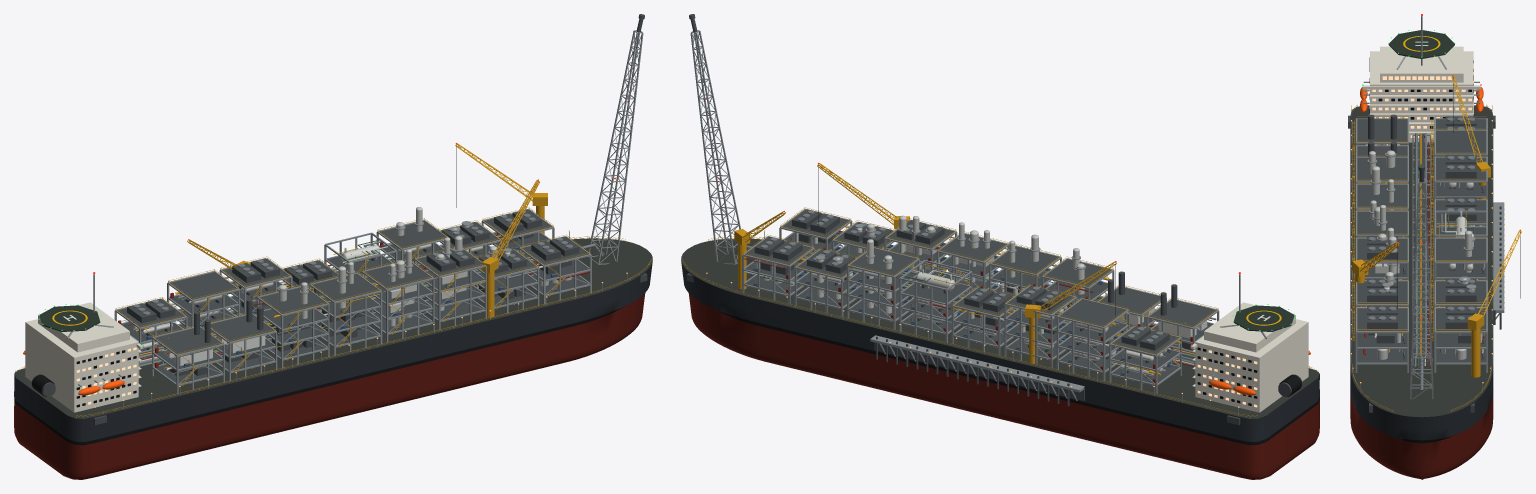
The model's file is fpso.glb.
The picture shows the model from 3 angles, left to right: view 1: azimuth 30°, elevation 25°; view 2: azimuth 150°, elevation 25°; view 3: azimuth 270°, elevation 25°; orthographic projection. The views are drawn at different scales.
Parts seen in each view (by area): view 1: fpso_casco, fpso_topside_estrutura_escura, fpso_topside_estrutura, fpso_topside_superestrutura, fpso_topside_amarelo, fpso_topside_vaso, fpso_topside_tubo, fpso_topside_heliponto, fpso_topside_branco; view 2: fpso_casco, fpso_topside_estrutura_escura, fpso_topside_estrutura, fpso_topside_superestrutura, fpso_topside_amarelo, fpso_topside_vaso, fpso_topside_tubo, fpso_topside_heliponto; view 3: fpso_topside_estrutura_escura, fpso_casco, fpso_topside_estrutura, fpso_topside_superestrutura, fpso_topside_amarelo, fpso_topside_tubo, fpso_topside_vaso, fpso_topside_heliponto, fpso_topside_janela, fpso_topside_tubo_verde, fpso_topside_janela_apagada, fpso_topside_laranja (+3 smaller).
Part boxes in pixels (box(x1,y1,x2,y2)): fpso_casco: box(14, 238, 652, 479); fpso_topside_estrutura_escura: box(31, 14, 647, 425); fpso_topside_estrutura: box(67, 30, 643, 415); fpso_topside_superestrutura: box(25, 302, 143, 412); fpso_topside_amarelo: box(15, 143, 651, 417); fpso_topside_vaso: box(120, 207, 565, 370); fpso_topside_tubo: box(133, 210, 603, 376); fpso_topside_heliponto: box(39, 305, 100, 331); fpso_topside_branco: box(164, 334, 265, 365); fpso_casco: box(681, 238, 1319, 479); fpso_topside_estrutura_escura: box(686, 14, 1302, 425); fpso_topside_estrutura: box(690, 30, 1266, 415); fpso_topside_superestrutura: box(1190, 302, 1308, 412); fpso_topside_amarelo: box(682, 163, 1318, 417); fpso_topside_vaso: box(744, 215, 1207, 376); fpso_topside_tubo: box(730, 210, 1216, 372); fpso_topside_heliponto: box(1233, 305, 1294, 331); fpso_topside_estrutura_escura: box(1348, 114, 1501, 412); fpso_casco: box(1350, 105, 1493, 479); fpso_topside_estrutura: box(1351, 16, 1504, 399); fpso_topside_superestrutura: box(1362, 46, 1480, 142); fpso_topside_amarelo: box(1352, 76, 1521, 412); fpso_topside_tubo: box(1360, 117, 1485, 389); fpso_topside_vaso: box(1366, 143, 1483, 365); fpso_topside_heliponto: box(1388, 30, 1454, 58); fpso_topside_janela: box(1369, 57, 1473, 137); fpso_topside_tubo_verde: box(1418, 142, 1479, 365); fpso_topside_janela_apagada: box(1369, 57, 1473, 137); fpso_topside_laranja: box(1360, 87, 1483, 112).
Size of the model in its own units: 303 by 142 by 70.7.
